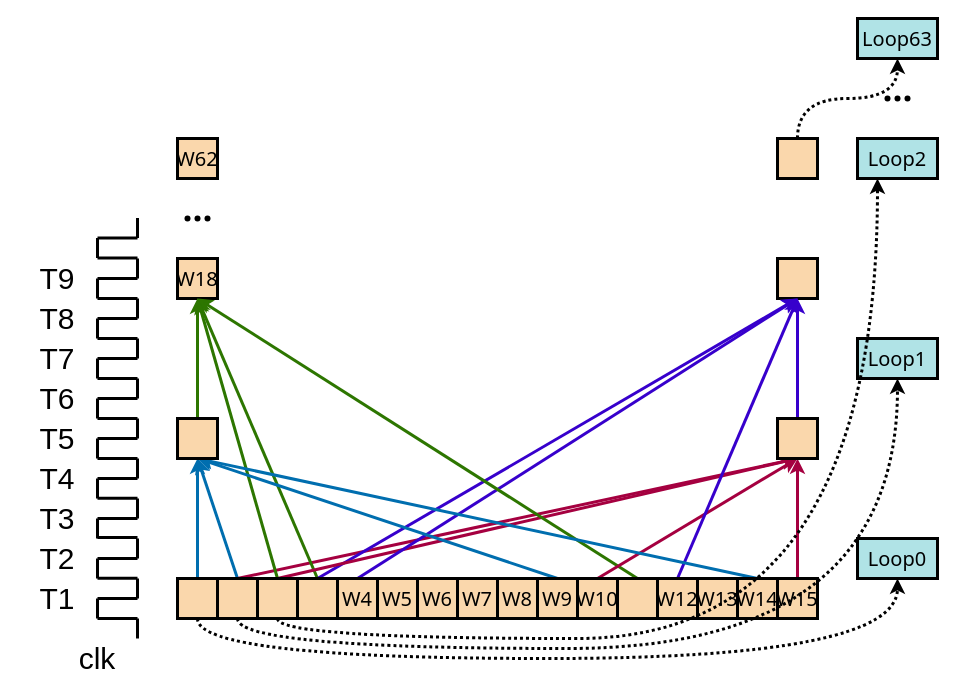
Image size: 956x696. Some labels were removed from this diagram. Each missing label, with the box of its shape:
W0: (176, 576, 218, 620)
W1: (216, 576, 258, 620)
W11: (616, 576, 658, 620)
W16: (176, 416, 218, 460)
W17: (776, 416, 818, 460)
W19: (776, 256, 818, 300)
W2: (256, 576, 298, 620)
W3: (296, 576, 338, 620)
W63: (776, 136, 818, 180)
